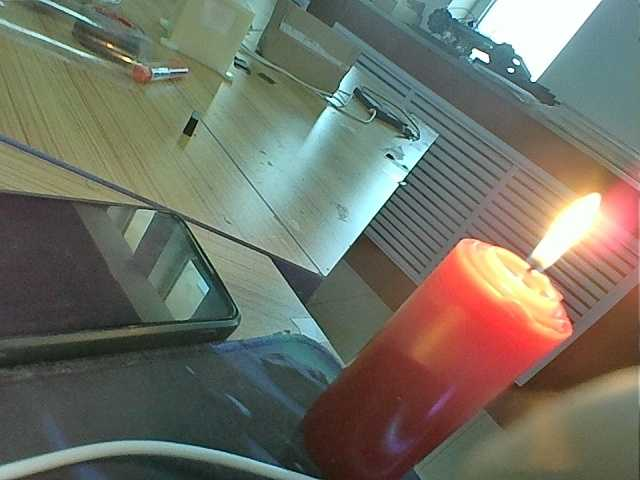candle: (297, 231, 573, 480)
fire: (515, 178, 608, 297)
